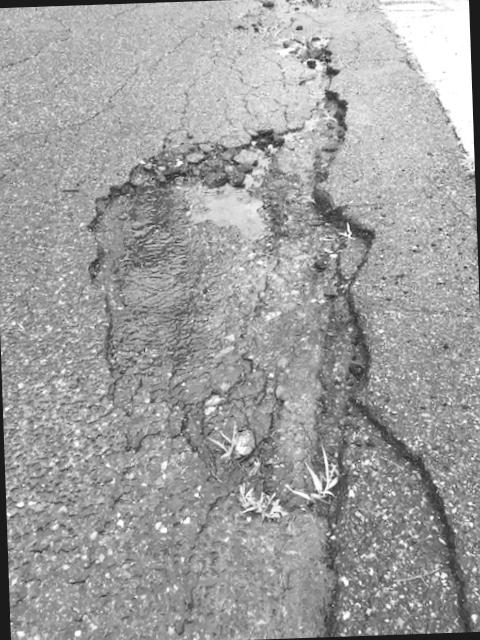Pothole: (60, 44, 404, 531)
